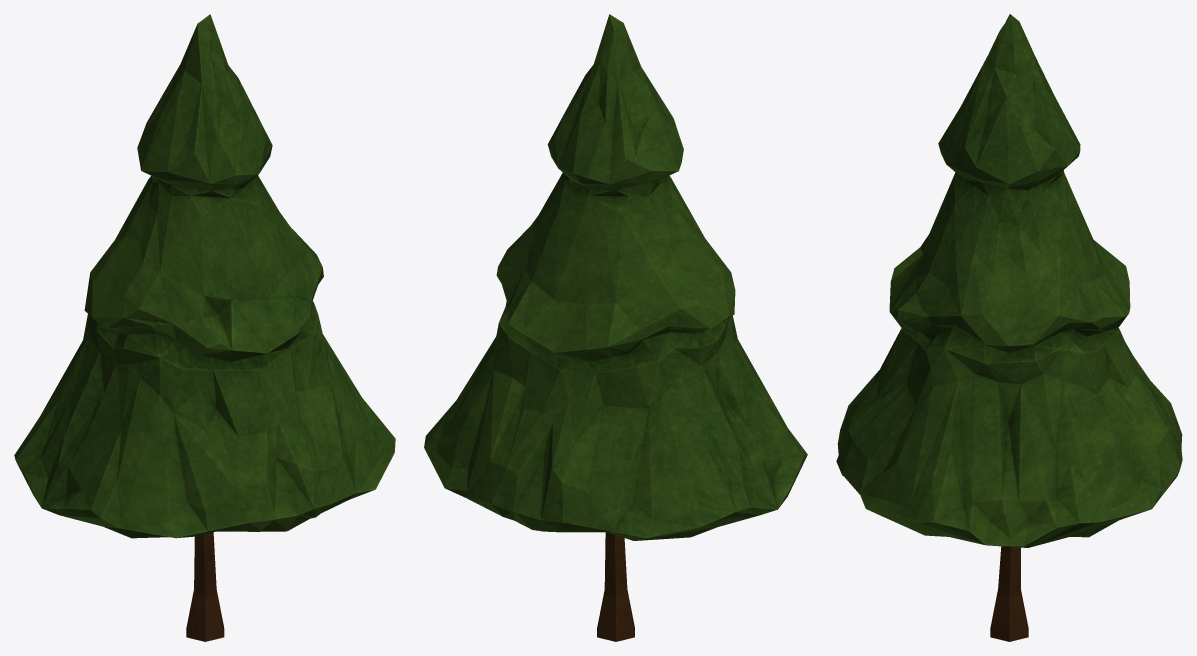
3 renders of one model, left to right at view 1: azimuth 30°, elevation 25°; view 2: azimuth 150°, elevation 25°; view 3: azimuth 270°, elevation 25°, orthographic.
Parts seen in each view (by area): view 1: node-0; view 2: node-0; view 3: node-0.
Boxes of the visible parts, left/top/right/bottom form: node-0: left=14, top=14, right=395, bottom=641; node-0: left=424, top=14, right=807, bottom=641; node-0: left=836, top=14, right=1182, bottom=641.
Size of the model in its own units: 10.84 by 19.65 by 9.93.
1 material, 1 textured.
